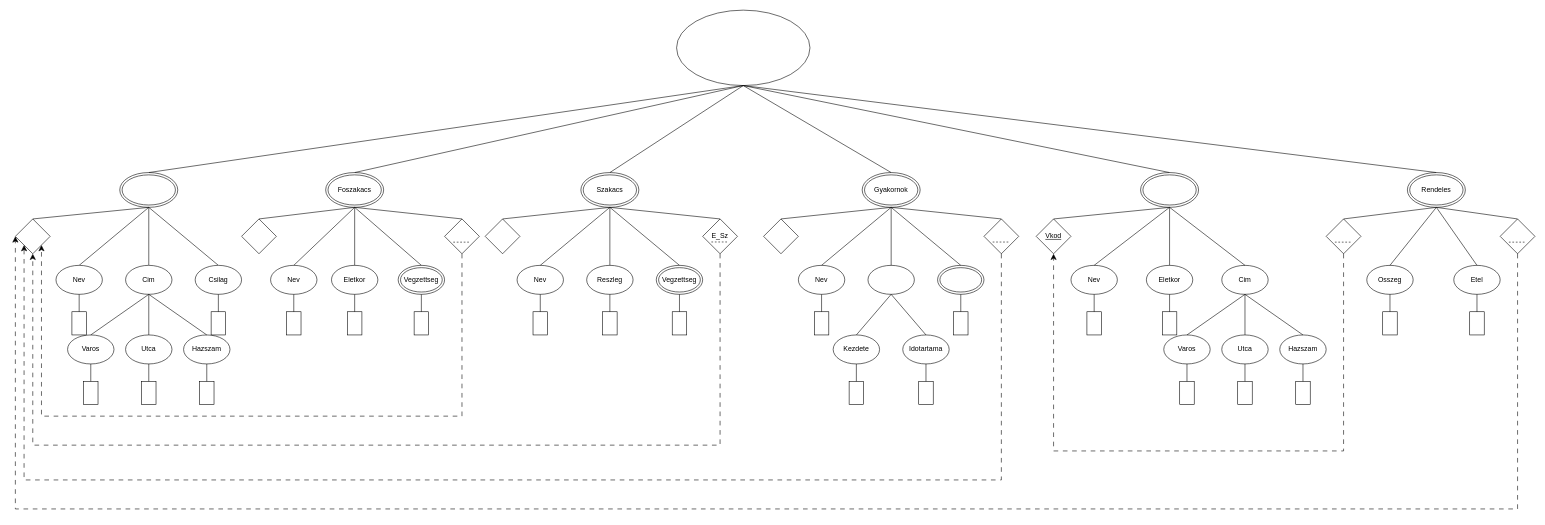
This 1545x525 diagram has some shape labels left out. Each missing label, with the centre of its shape:
"E_F" belongs at (461,236).
"E_Gy" belongs at (1001,236).
"E_R" belongs at (1517,236).
"Ekod" belongs at (32,236).
"Etterem" belongs at (148,189).
"Fkod" belongs at (258,236).
"Gyakorlat" belongs at (890,279).
"Gykod" belongs at (780,236).
"HPQ9EO_Vendeglatas" belongs at (743,48).
"Muszak" belongs at (960,279).
"Sz kod" belongs at (502,236).
"V_R" belongs at (1343,236).
"Vendeg" belongs at (1169,189).
